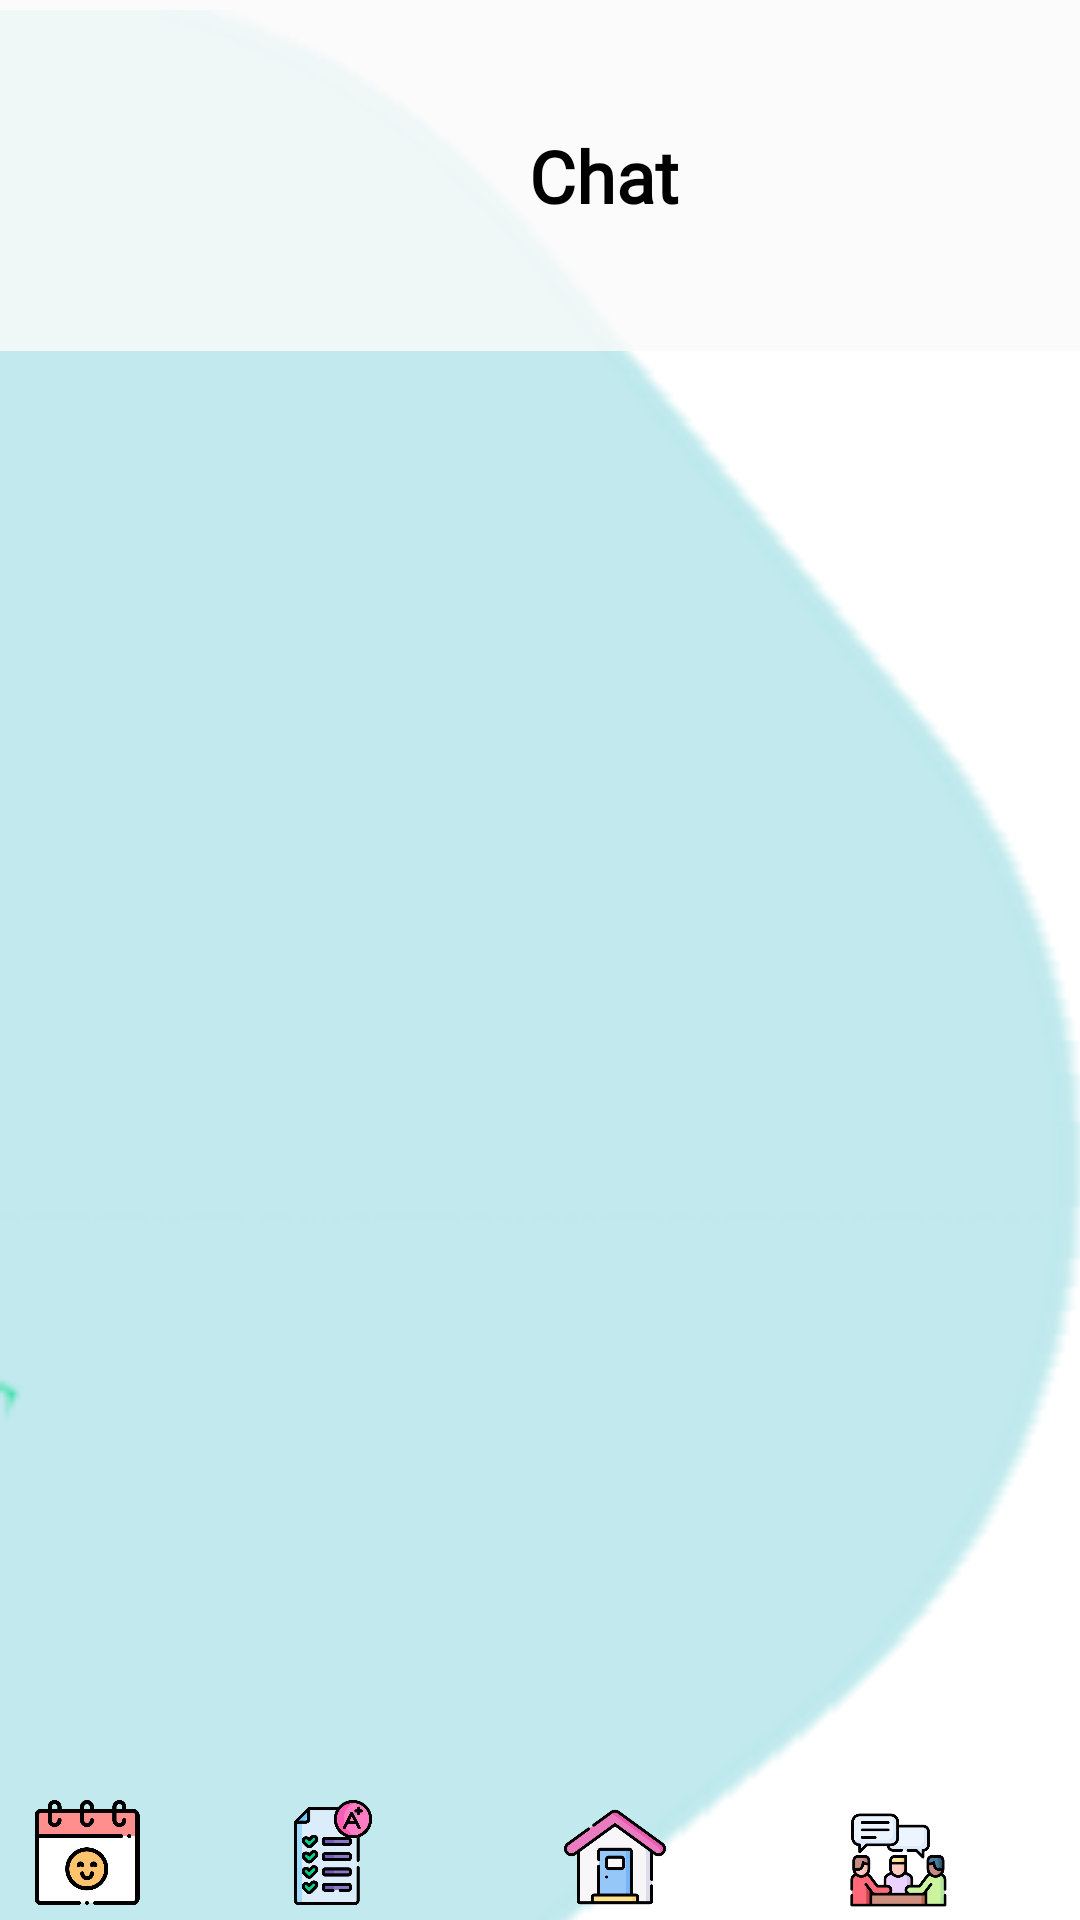

Where to tap for icons on this 1080w x 1920h app screen, as point (x, y):
bdenavecagao calendario: point (87, 1852)
bdenavecagao home: point (627, 1859)
bdenavecagao talkprofessor: point (898, 1860)
notas: point (333, 1852)
